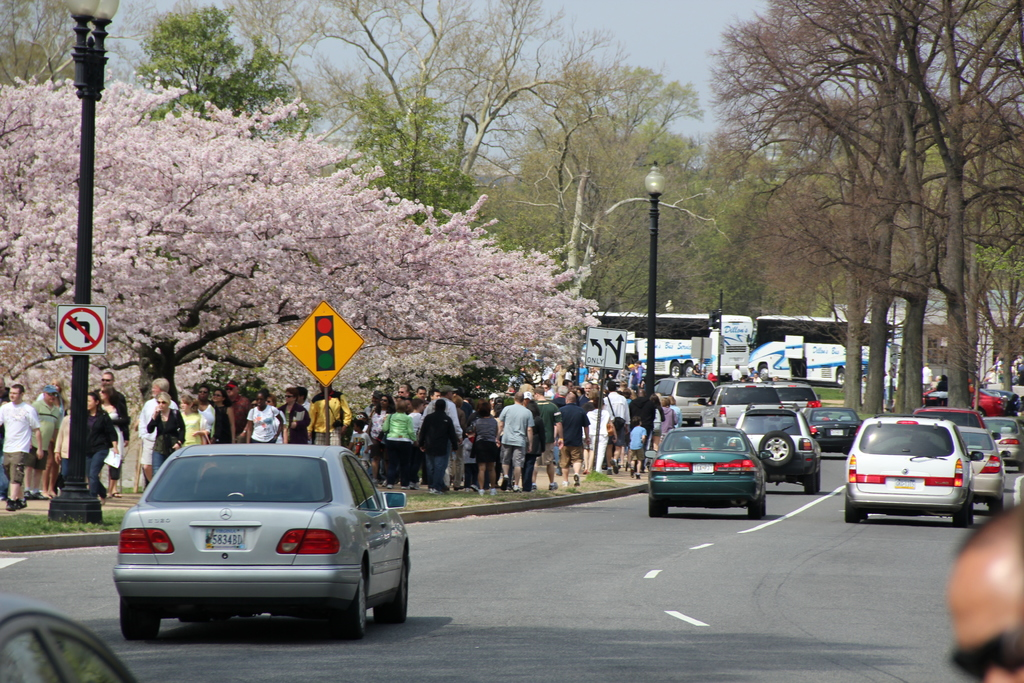license plate: (199, 529, 242, 547)
